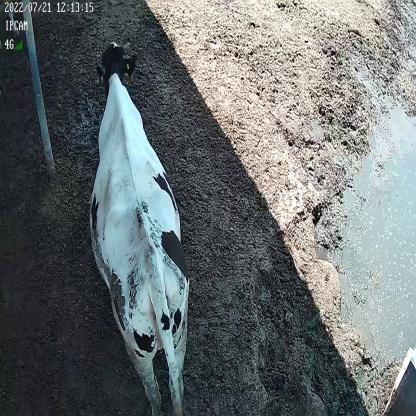cow: (86, 40, 190, 415)
